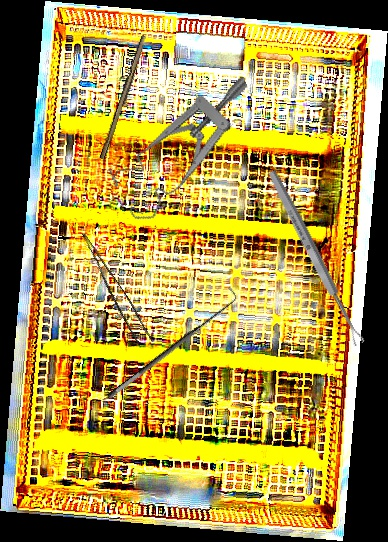Hook Surgical: (99, 285, 243, 402)
Scalpel Handle: (99, 34, 149, 161)
Speculum: (94, 74, 281, 228)
Surgical Spoon: (265, 168, 366, 348)
Tissue Forceps: (69, 232, 157, 350)
